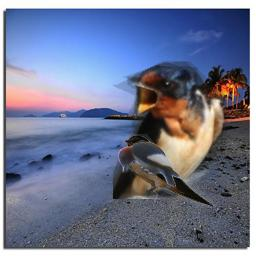Swallow: (113, 61, 227, 199), (122, 134, 216, 208)
Woodpecker: (116, 140, 182, 189)
